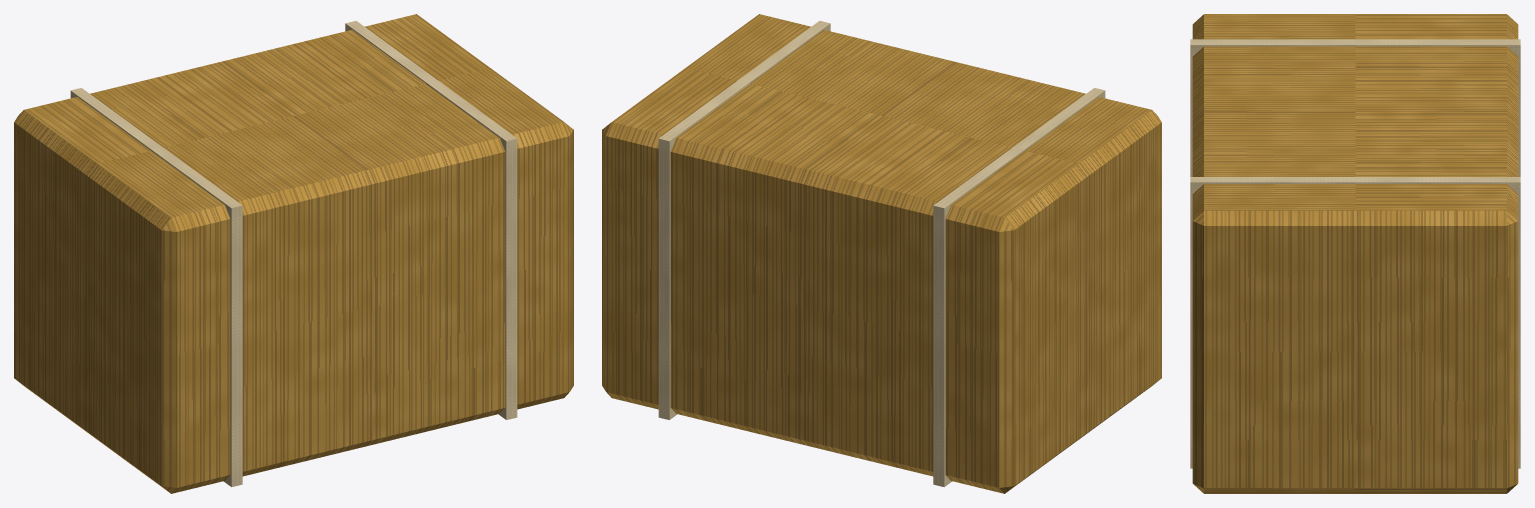
File: Hay_Bale.fbx
The picture shows the model from 3 angles, left to right: view 1: azimuth 30°, elevation 25°; view 2: azimuth 150°, elevation 25°; view 3: azimuth 270°, elevation 25°; orthographic projection. The views are drawn at different scales.
Parts seen in each view (by area): view 1: Hay_Bale.001; view 2: Hay_Bale.001; view 3: Hay_Bale.001.
Part boxes in pixels (x1,y1,x2,y2): Hay_Bale.001: (14, 14, 573, 493); Hay_Bale.001: (602, 14, 1161, 493); Hay_Bale.001: (1190, 14, 1520, 493).
Size of the model in its own units: 150 by 97 by 102.
2 materials, 2 textured.
